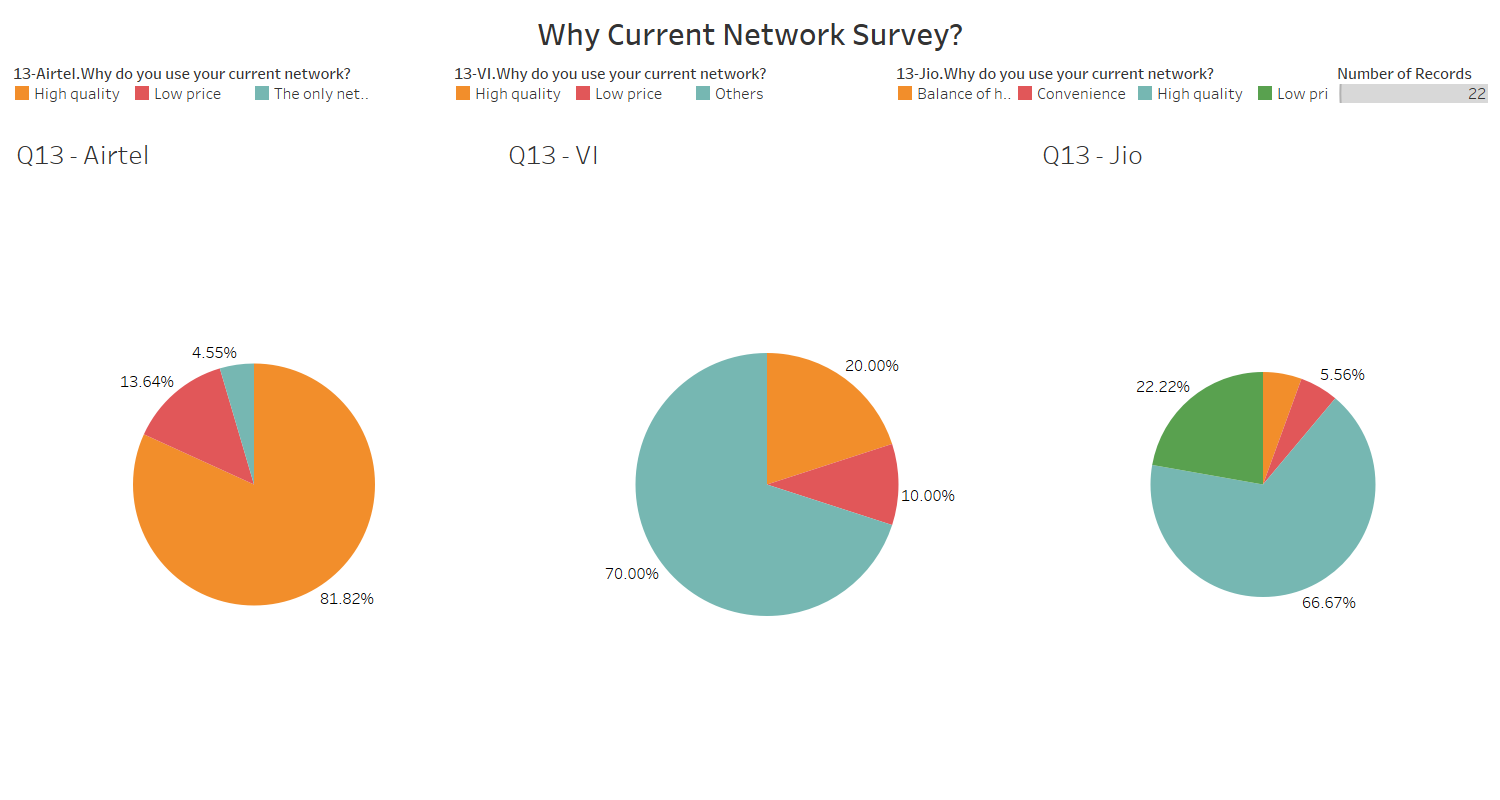

The page's visual inventory and layout, read from the dashboard file:
{"tool":"tableau","page":{"name":"Why Current Network Survey?","canvas":[1500,800],"ordinal":4},"visuals":[{"type":"title","box":[8,8,1484,49]},{"type":"legend","title":"Q13 - Airtel","param":"[federated.03yo3nc1uq0xte18hni1j0jtv1ar].[none:13-Airtel.Why do you use your cur","box":[8,57,441.3,70.3]},{"type":"legend","title":"Q13 - VI","param":"[federated.03yo3nc1uq0xte18hni1j0jtv1ar].[none:13-VI.Why do you use your current","box":[449.3,57,441.3,70.3]},{"type":"legend","title":"Q13 - Jio","param":"[federated.03yo3nc1uq0xte18hni1j0jtv1ar].[none:13-Jio.Why do you use your curren","box":[890.7,57,441.3,70.3]},{"type":"legend","title":"Q13 - Airtel","param":"[federated.03yo3nc1uq0xte18hni1j0jtv1ar].[sum:Number of Records:qk]","box":[1332,57,160,70.3]},{"type":"worksheet","title":"Q13 - Airtel","mark":"Pie","box":[8,127.3,492,664.7]},{"type":"worksheet","title":"Q13 - VI","mark":"Pie","box":[500,127.3,533.6,664.7]},{"type":"worksheet","title":"Q13 - Jio","mark":"Pie","box":[1033.6,127.3,458.4,664.7]}]}

Visuals, with their boxes in screenshot pixels (x1, y1, x2, y2), scaled from the page's 1500x800 canvas onto the 1500x800 screenshot:
title: 8:8:1492:57
"Q13 - Airtel" legend: 8:57:449:127
"Q13 - VI" legend: 449:57:891:127
"Q13 - Jio" legend: 891:57:1332:127
"Q13 - Airtel" legend: 1332:57:1492:127
"Q13 - Airtel" worksheet (Pie marks): 8:127:500:792
"Q13 - VI" worksheet (Pie marks): 500:127:1034:792
"Q13 - Jio" worksheet (Pie marks): 1034:127:1492:792
